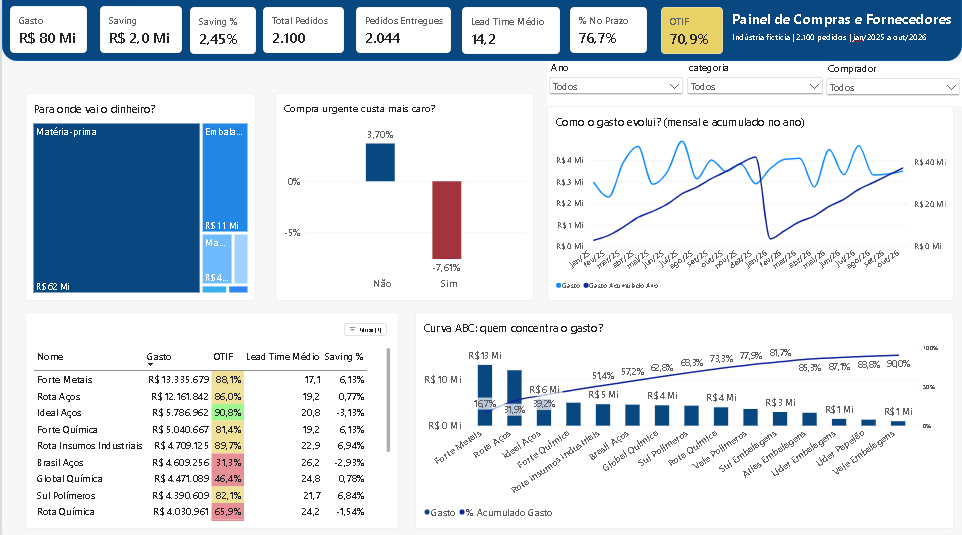

This screenshot's page, from the dashboard's own definition file:
{"tool":"powerbi","page":{"name":"Página 1","canvas":[1920,1080],"ordinal":0},"visuals":[{"type":"shape","box":[0,0,1920,124],"z":0},{"type":"cardVisual","fields":{"Data":["pedidos.Total Pedidos"]},"box":[522,16,162,92],"z":1000},{"type":"cardVisual","fields":{"Data":["Calendario.Gasto"]},"box":[16,14,154,94],"z":2000},{"type":"cardVisual","fields":{"Data":["Calendario.Saving"]},"box":[196,14,164,94],"z":3000},{"type":"cardVisual","fields":{"Data":["Calendario.Saving %"]},"box":[376,16,132,94],"z":4000},{"type":"cardVisual","fields":{"Data":["Calendario.Lead Time Médio"]},"box":[920,16,196,94],"z":5000},{"type":"cardVisual","fields":{"Data":["Calendario.Pedidos Entregues"]},"box":[708,16,190,92],"z":6000},{"type":"cardVisual","fields":{"Data":["Calendario.% No Prazo"]},"box":[1136,16,154,92],"z":7000},{"type":"cardVisual","fields":{"Data":["Calendario.OTIF"]},"box":[1318,16,124,94],"z":8000},{"type":"treemap","title":"Para onde vai o dinheiro?","fields":{"Group":["itens.categoria"],"Values":["Calendario.Gasto"]},"box":[46,188,462,416],"z":9000},{"type":"lineStackedColumnComboChart","title":"Curva ABC: quem concentra o gasto?","fields":{"Category":["fornecedores.nome"],"Y":["Calendario.Gasto"],"Y2":["Calendario.% Acumulado Gasto"]},"box":[826,626,1078,434],"z":10000},{"type":"tableEx","fields":{"Values":["fornecedores.nome","Calendario.Gasto","Calendario.OTIF","Calendario.Lead Time Médio","Calendario.Saving %"]},"box":[46,626,748,434],"z":11000},{"type":"lineChart","title":"Como o gasto evolui? (mensal e acumulado no ano)","fields":{"Category":["Calendario.Mês Ano"],"Y":["Calendario.Gasto"],"Y2":["Calendario.Gasto Acumulado Ano"]},"box":[1090,214,814,390],"z":11001},{"type":"clusteredColumnChart","title":"Compra urgente custa mais caro?","fields":{"Category":["pedidos.urgente"],"Y":["Calendario.Saving %"]},"box":[546,188,518,416],"z":11002},{"type":"textbox","box":[708,62,22,166],"z":11003},{"type":"textbox","box":[1460,0,444,64],"z":11004},{"type":"slicer","fields":{"Values":["Calendario.Ano"]},"box":[1090,124,276,90],"z":11005},{"type":"slicer","fields":{"Values":["itens.categoria"]},"box":[1366,124,280,90],"z":11006},{"type":"slicer","fields":{"Values":["pedidos.comprador"]},"box":[1644,126,276,88],"z":11007},{"type":"textbox","box":[1459.4,63.2,406.7,29.1],"z":11008}]}

Visuals, with their boxes in screenshot pixels (x1, y1, x2, y2), scaled from the page's 1920x1080 canvas onto the 962x535 screenshot:
shape: [x1=0, y1=0, x2=961, y2=61]
cardVisual - pedidos.Total Pedidos: [x1=262, y1=8, x2=343, y2=54]
cardVisual - Calendario.Gasto: [x1=8, y1=7, x2=85, y2=54]
cardVisual - Calendario.Saving: [x1=98, y1=7, x2=180, y2=54]
cardVisual - Calendario.Saving %: [x1=188, y1=8, x2=255, y2=54]
cardVisual - Calendario.Lead Time Médio: [x1=461, y1=8, x2=559, y2=54]
cardVisual - Calendario.Pedidos Entregues: [x1=355, y1=8, x2=450, y2=54]
cardVisual - Calendario.% No Prazo: [x1=569, y1=8, x2=646, y2=54]
cardVisual - Calendario.OTIF: [x1=660, y1=8, x2=723, y2=54]
"Para onde vai o dinheiro?" treemap: [x1=23, y1=93, x2=255, y2=299]
"Curva ABC: quem concentra o gasto?" lineStackedColumnComboChart: [x1=414, y1=310, x2=954, y2=525]
tableEx - fornecedores.nome x Calendario.Gasto: [x1=23, y1=310, x2=398, y2=525]
"Como o gasto evolui? (mensal e acumulado no ano)" lineChart: [x1=546, y1=106, x2=954, y2=299]
"Compra urgente custa mais caro?" clusteredColumnChart: [x1=274, y1=93, x2=533, y2=299]
textbox: [x1=355, y1=31, x2=366, y2=113]
textbox: [x1=732, y1=0, x2=954, y2=32]
slicer - Calendario.Ano: [x1=546, y1=61, x2=684, y2=106]
slicer - itens.categoria: [x1=684, y1=61, x2=825, y2=106]
slicer - pedidos.comprador: [x1=824, y1=62, x2=961, y2=106]
textbox: [x1=731, y1=31, x2=935, y2=46]
